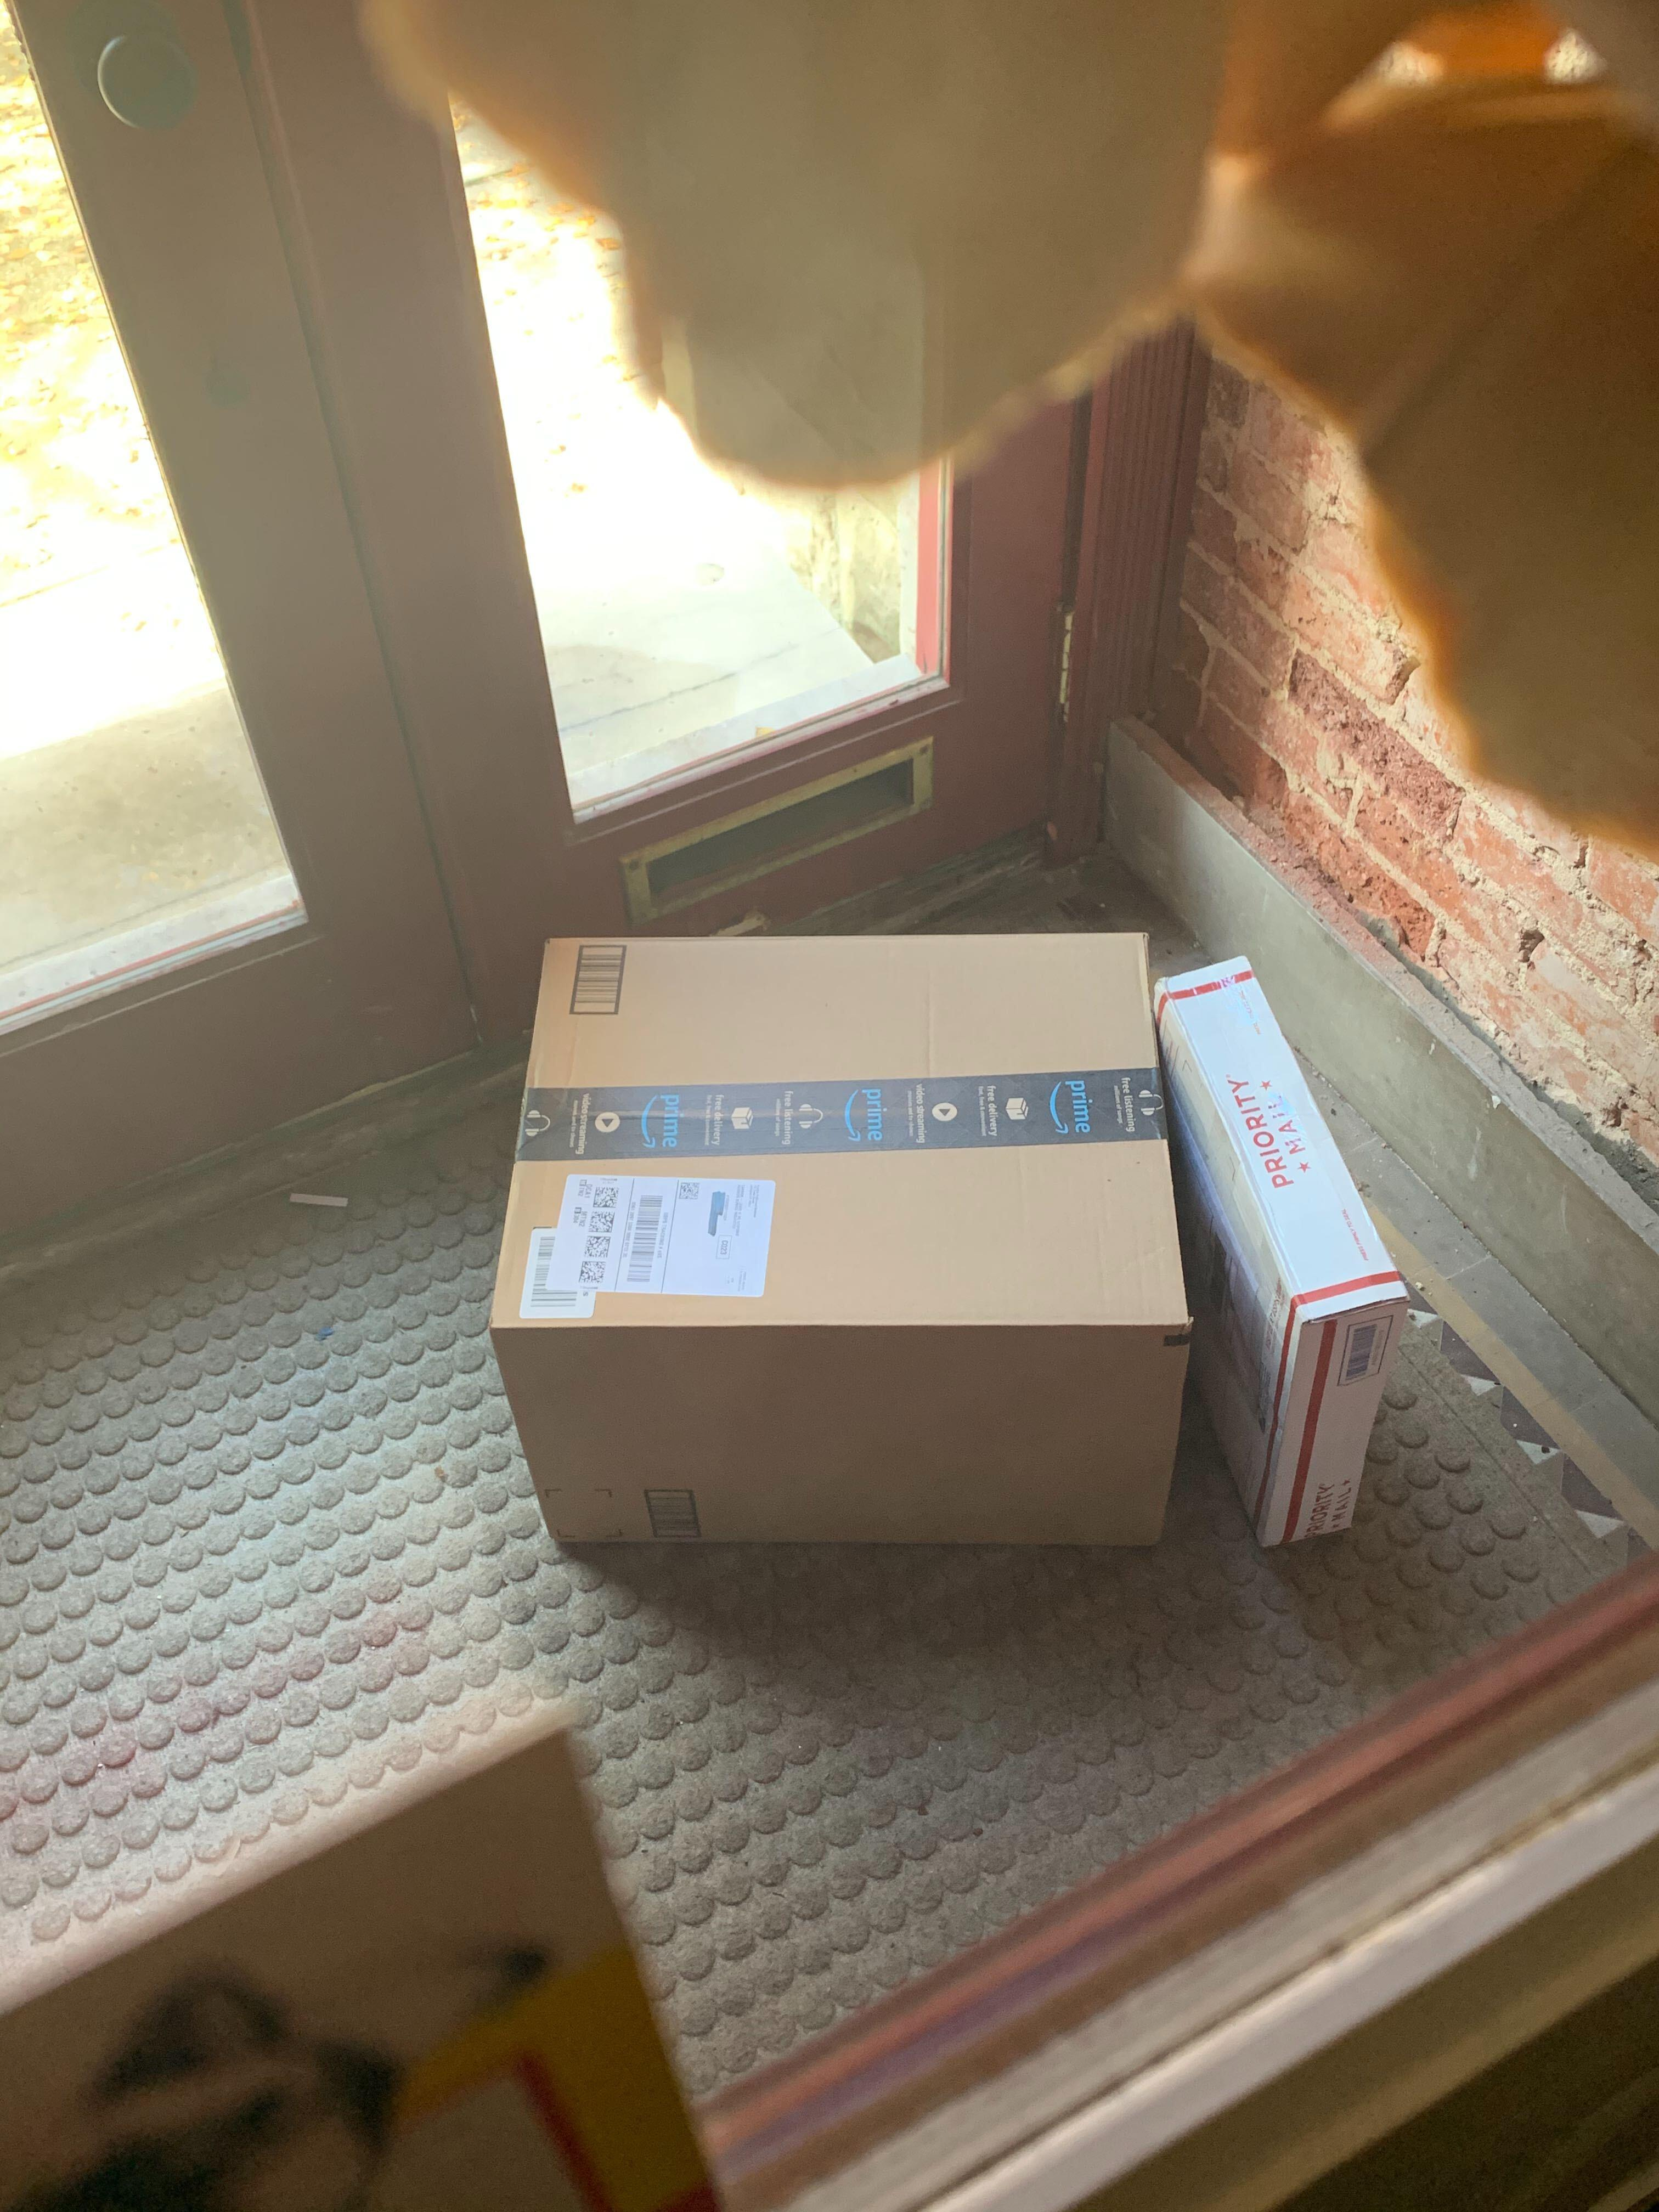package: (483, 932, 1194, 1550), (1161, 953, 1408, 1548)
